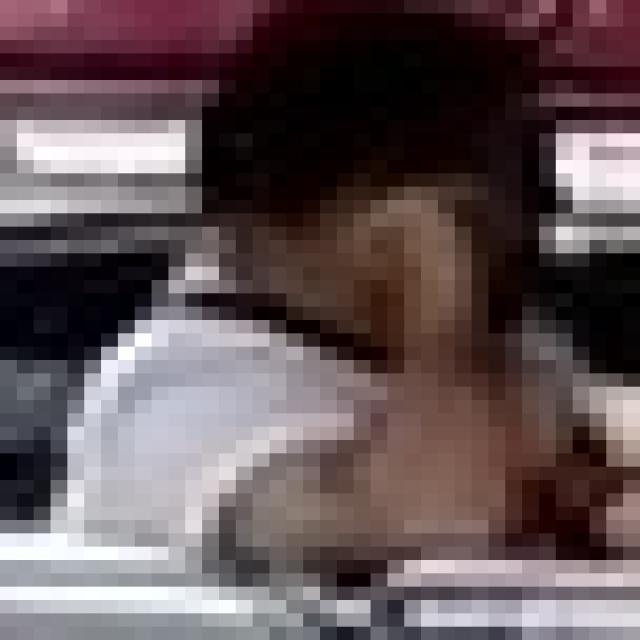door: (0, 0, 623, 627)
